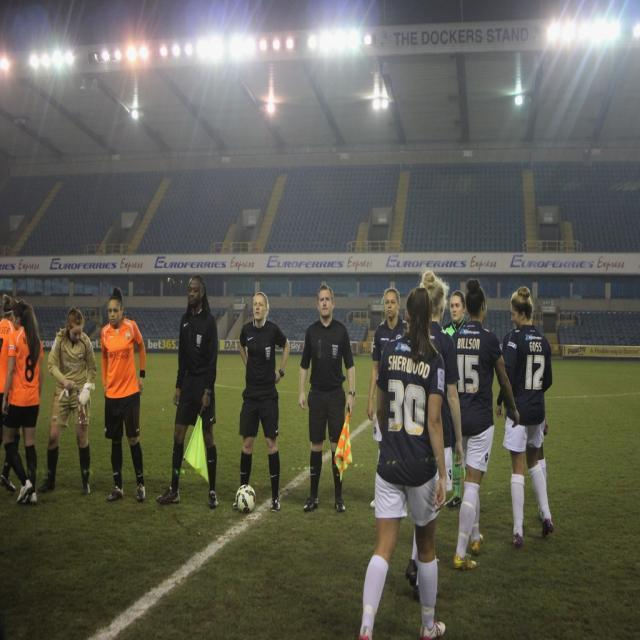ball: (236, 483, 255, 514)
